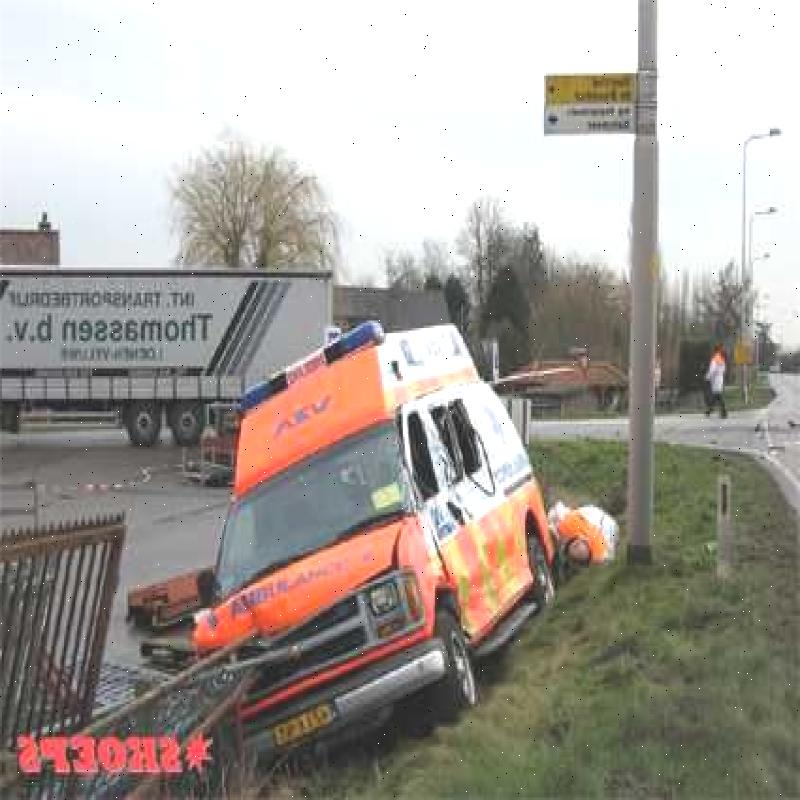AmbulanceSiren: (231, 312, 391, 422)
